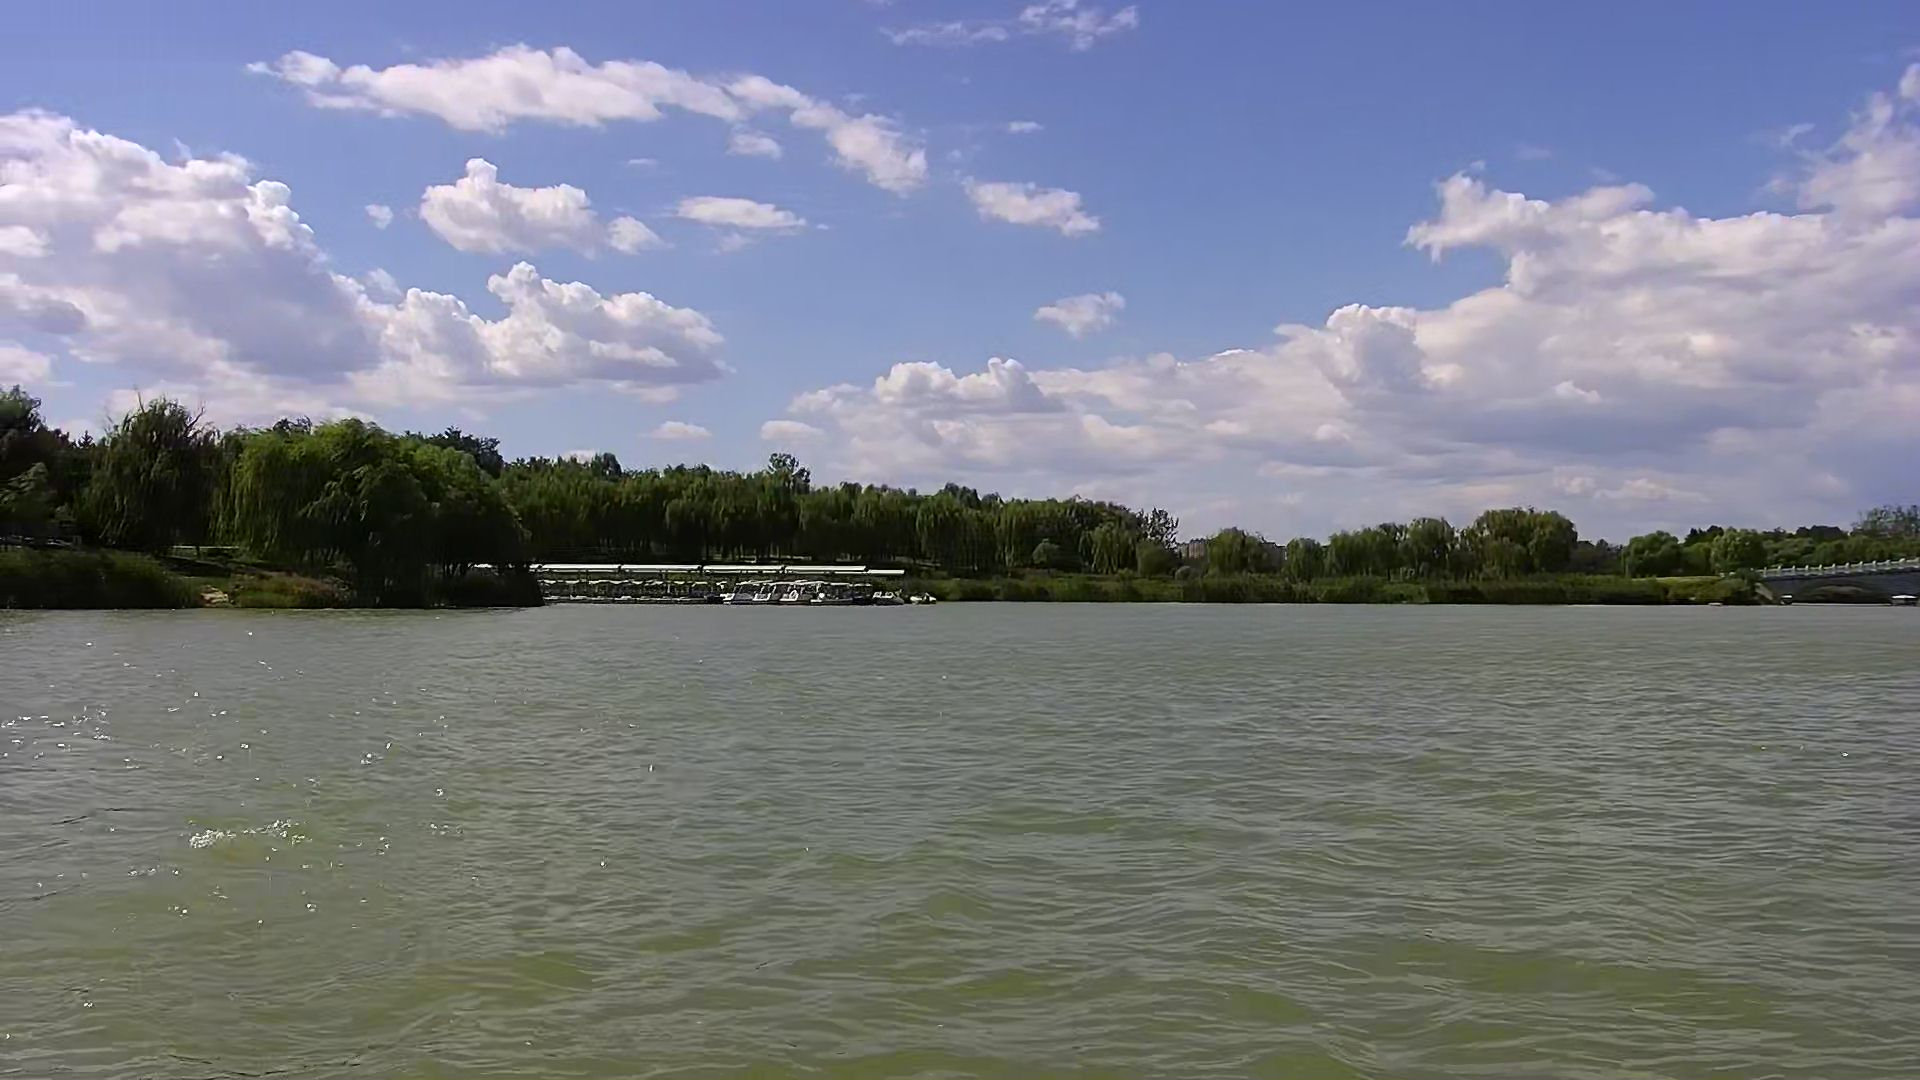harbor: (531, 559, 928, 611)
